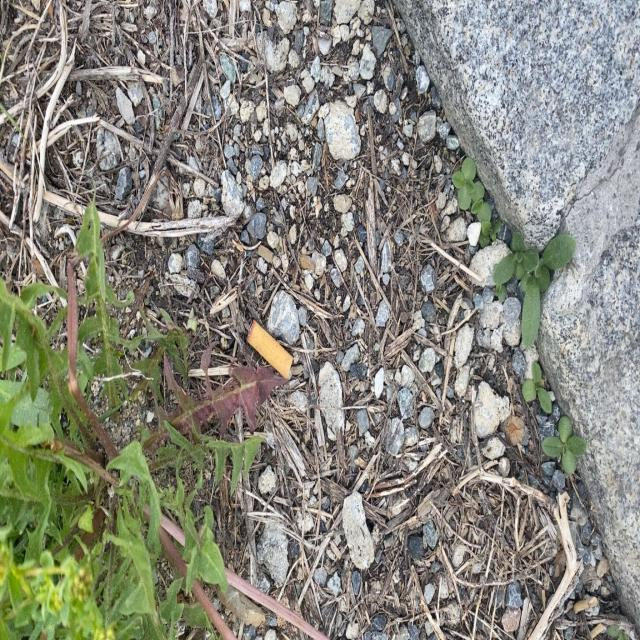other waste: (246, 318, 293, 380)
